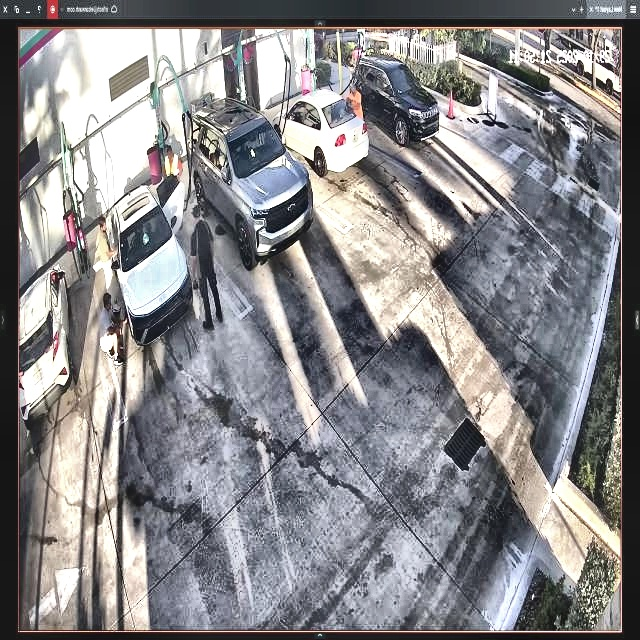Car: (189, 96, 313, 261), (106, 173, 187, 347), (273, 86, 368, 175)
